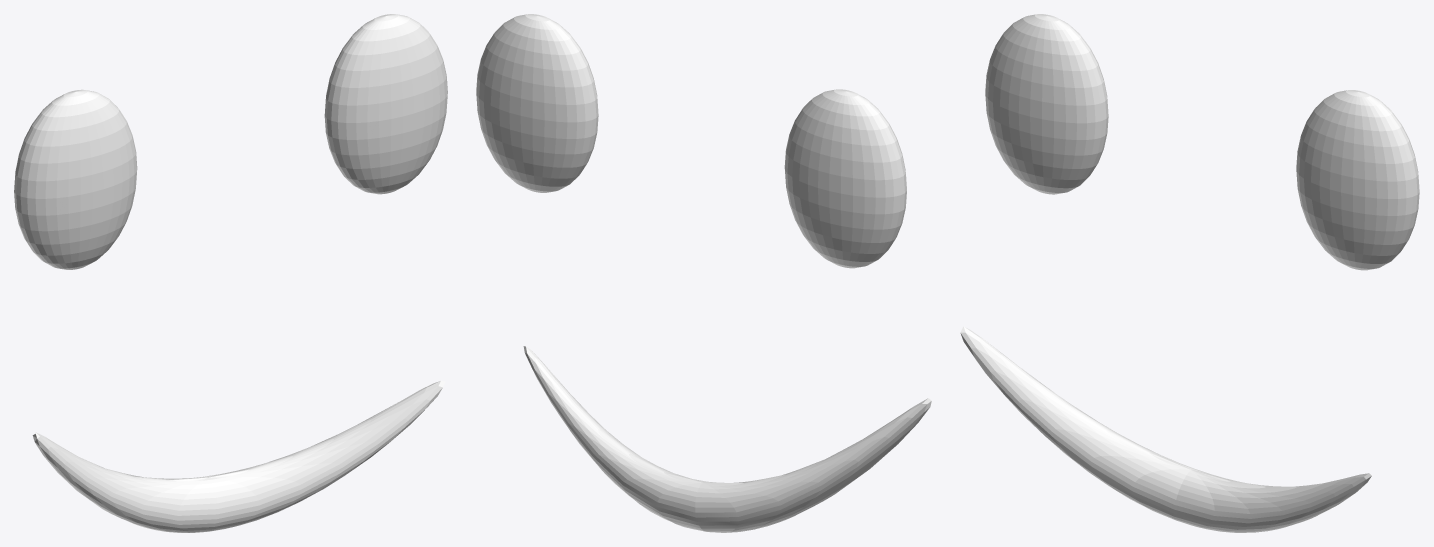
Rendered from AbsolutelyHappy_eyesMouth.obj.
3 views of the same model, side by side, from view 1: azimuth 30°, elevation 25°; view 2: azimuth 150°, elevation 25°; view 3: azimuth 330°, elevation 25° (orthographic).
Bounding box in the file's own units: 0.939 × 0.9796 × 0.1543.
